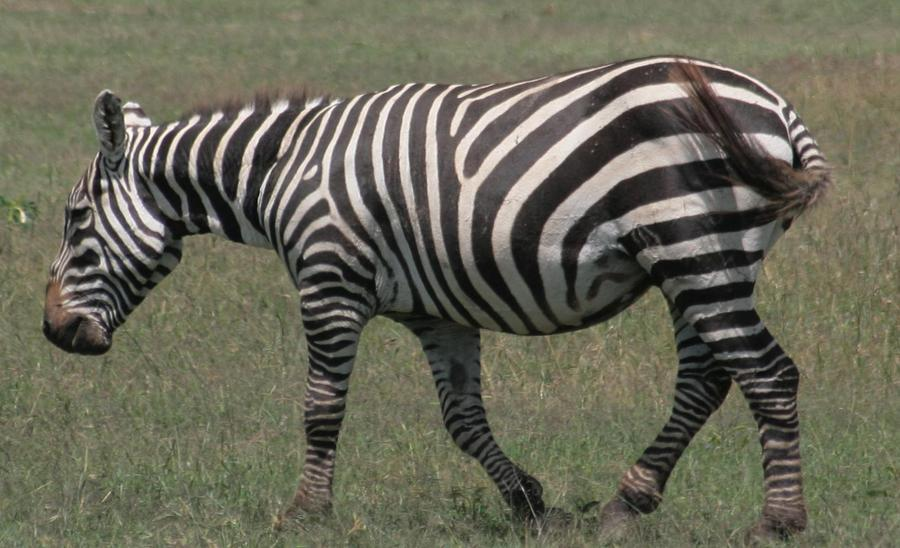zebra_plains: (240, 44, 808, 342)
